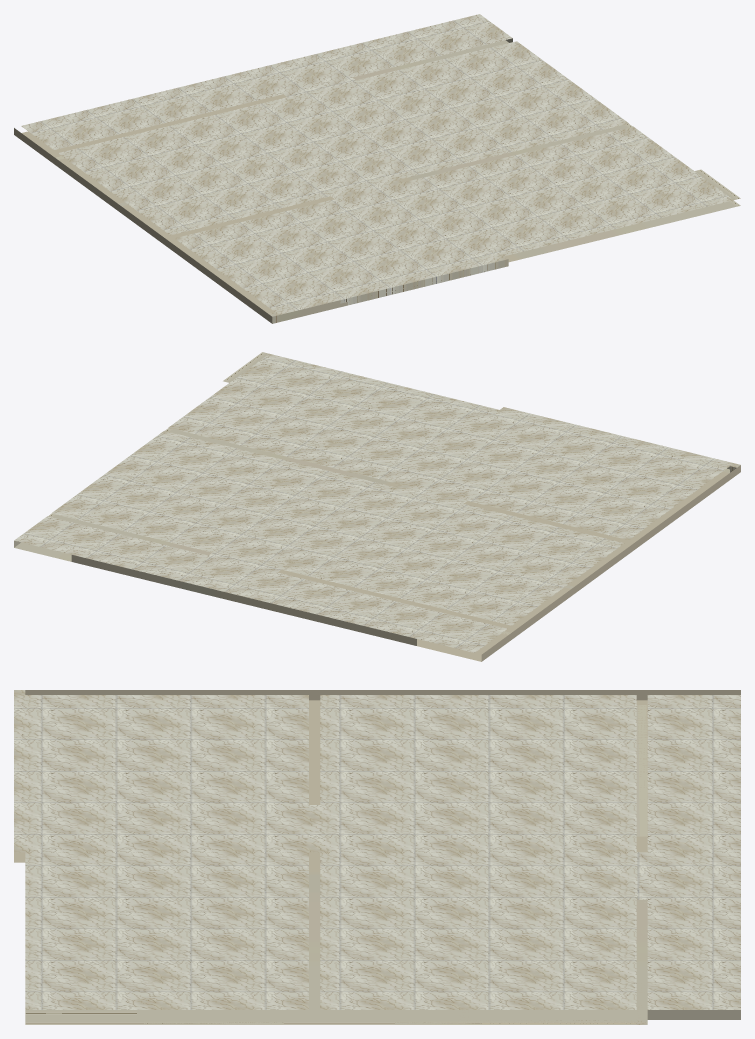
Rendered from FrontRight2ndFloor2.obj.
3 renders of one model, top to bottom at view 1: azimuth 30°, elevation 25°; view 2: azimuth 150°, elevation 25°; view 3: azimuth 270°, elevation 25°, orthographic. The views are drawn at different scales.
Visible parts, largest first — view 1: Box011; view 2: Box011; view 3: Box011.
Boxes of the visible parts, x1,y1,x2,y2 form: Box011: [14, 14, 740, 323]; Box011: [14, 352, 740, 661]; Box011: [14, 690, 740, 1024].
Bounding box in the file's own units: 811 × 11.81 × 768.
